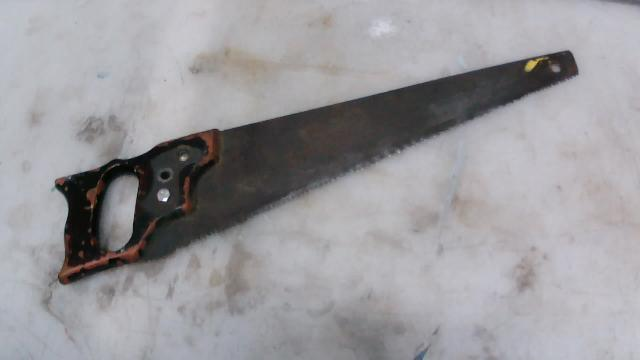gergaji_kayu: (37, 32, 601, 312)
